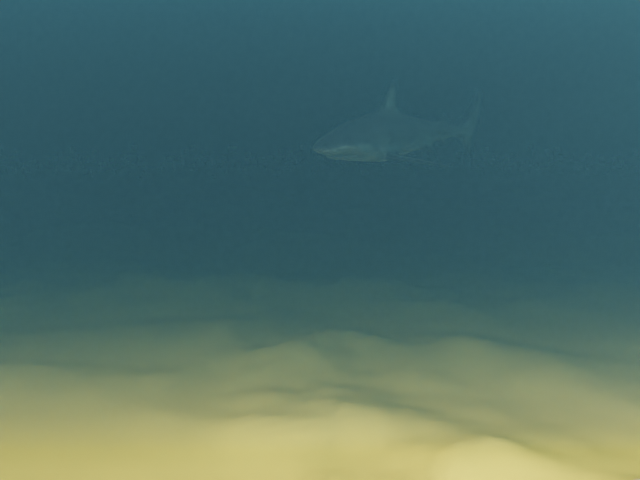Carribean Shark.001: (312, 82, 480, 167)
